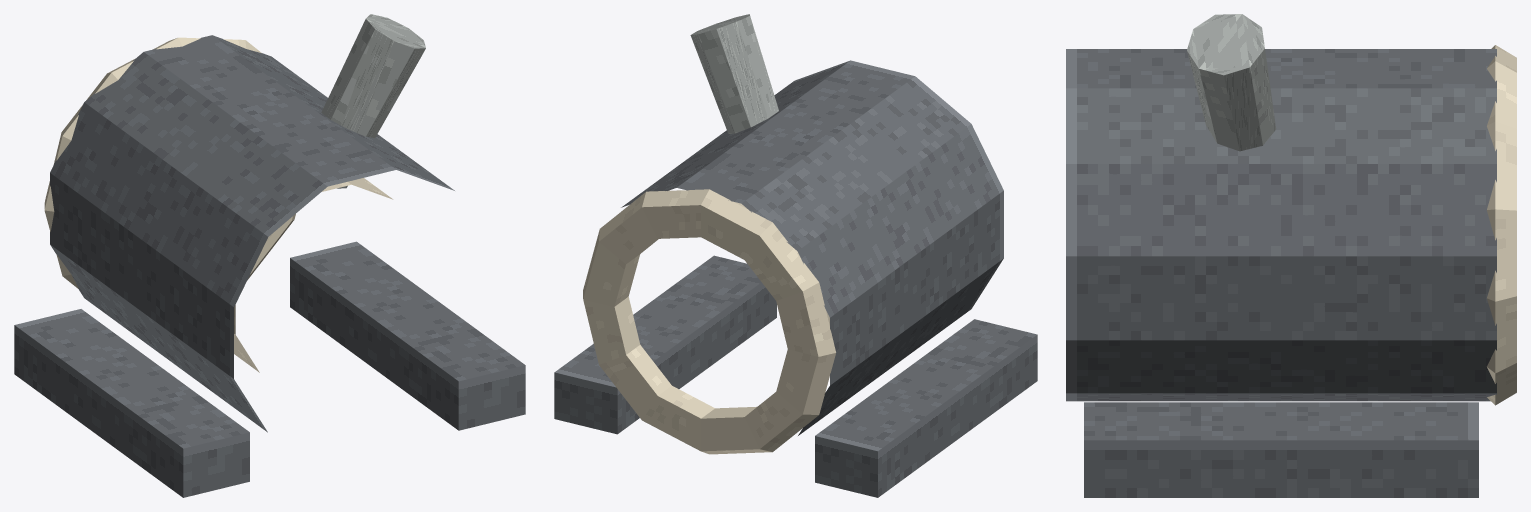
The model's file is gas_forge.glb.
3 renders of one model, left to right at view 1: azimuth 30°, elevation 25°; view 2: azimuth 150°, elevation 25°; view 3: azimuth 270°, elevation 25°, orthographic. The views are drawn at different scales.
Parts seen in each view (by area): view 1: block_forge shell, block_forge support foot (×2), block_burner housing, block_molded forge mouth, block_refractory lining; view 2: block_forge shell, block_forge support foot (×2), block_molded forge mouth, block_burner housing; view 3: block_forge shell, block_forge support foot, block_burner housing, block_molded forge mouth.
Boxes of the visible parts, bbox=[...] form: block_forge shell: bbox=[50, 35, 454, 432]; block_forge support foot (×2): bbox=[14, 241, 525, 497]; block_burner housing: bbox=[321, 14, 425, 188]; block_molded forge mouth: bbox=[44, 37, 295, 288]; block_refractory lining: bbox=[234, 178, 393, 372]; block_forge shell: bbox=[621, 60, 1003, 435]; block_forge support foot (×2): bbox=[554, 255, 1037, 497]; block_molded forge mouth: bbox=[583, 189, 836, 454]; block_burner housing: bbox=[690, 14, 778, 133]; block_forge shell: bbox=[1066, 49, 1496, 401]; block_forge support foot: bbox=[1084, 402, 1478, 497]; block_burner housing: bbox=[1187, 14, 1276, 151]; block_molded forge mouth: bbox=[1487, 45, 1516, 405].
Bounding box in the file's own units: 0.369 × 0.38 × 0.3598.
Materials: 1 (1 with a texture image).
